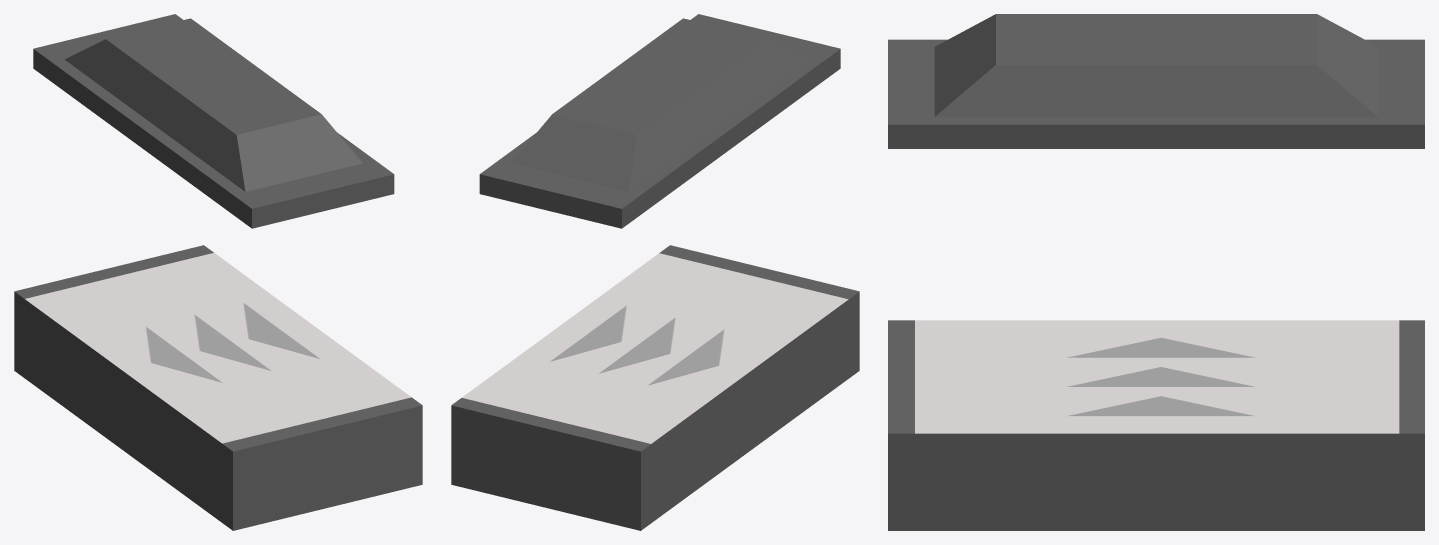
The model's file is deliverStation.fbx.
3 views of the same model, side by side, from view 1: azimuth 30°, elevation 25°; view 2: azimuth 150°, elevation 25°; view 3: azimuth 270°, elevation 25° (orthographic). The views are drawn at different scales.
Visible parts, largest first — view 1: DeliverStation, DeliverStationRoof; view 2: DeliverStation, DeliverStationRoof; view 3: DeliverStation, DeliverStationRoof.
Boxes of the visible parts, x1,y1,x2,y2 form: DeliverStation: (14,245,422,530); DeliverStationRoof: (33,14,394,228); DeliverStation: (451,245,859,530); DeliverStationRoof: (479,14,840,228); DeliverStation: (888,320,1424,530); DeliverStationRoof: (888,14,1424,148).
Bounding box in the file's own units: 100 × 178 × 200.
